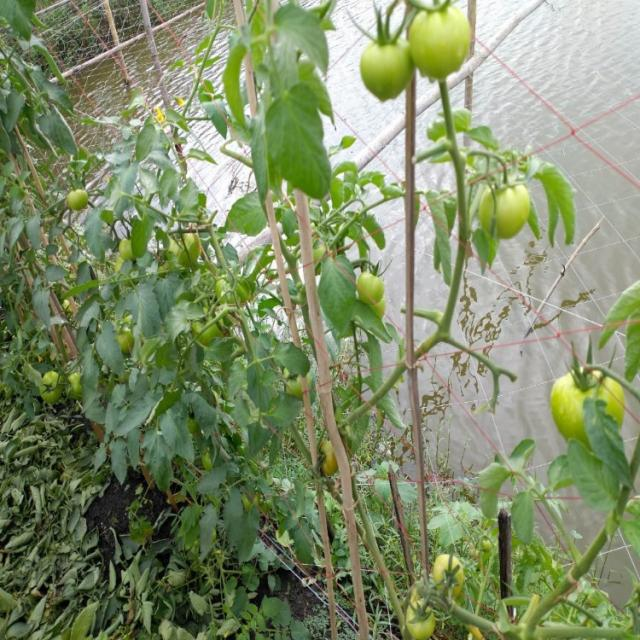tomato: (552, 361, 629, 461), (412, 5, 476, 79), (473, 169, 534, 244), (360, 28, 409, 106), (359, 266, 391, 320), (436, 554, 471, 596), (189, 312, 224, 352), (404, 596, 437, 637), (311, 437, 342, 478), (285, 361, 313, 400), (307, 233, 334, 273), (63, 187, 92, 217), (213, 275, 240, 303), (40, 373, 65, 403), (246, 490, 270, 520), (112, 236, 137, 263), (118, 332, 143, 357), (70, 368, 91, 396), (200, 449, 219, 474), (479, 537, 500, 555)
